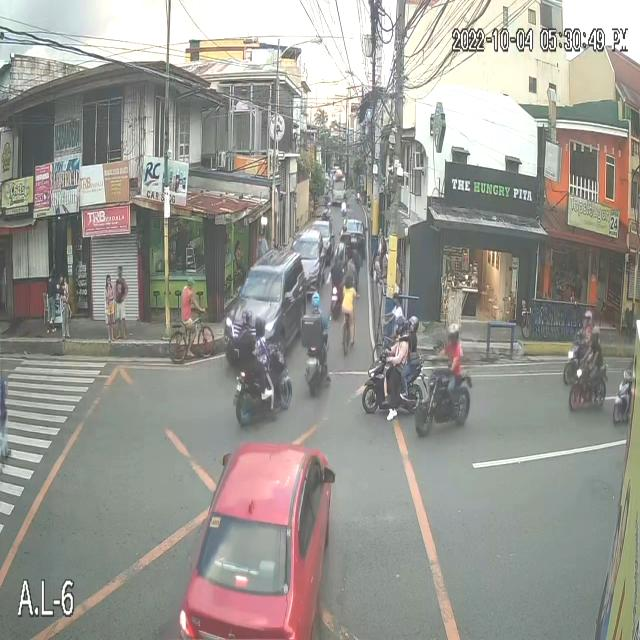Full-Faced: (254, 316, 268, 338), (579, 311, 593, 332), (237, 308, 250, 326), (592, 330, 604, 346), (446, 324, 456, 342), (408, 318, 418, 332), (395, 318, 406, 330), (312, 294, 322, 307)
Half-Faced: (328, 250, 342, 276)
Invalid: (627, 341, 640, 358)
Not-Wearing-Helmet: (345, 270, 354, 290)
